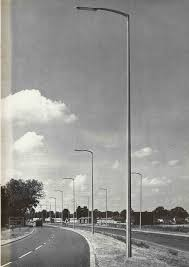light_pole: (118, 15, 137, 259), (81, 146, 96, 236), (136, 168, 144, 229)
